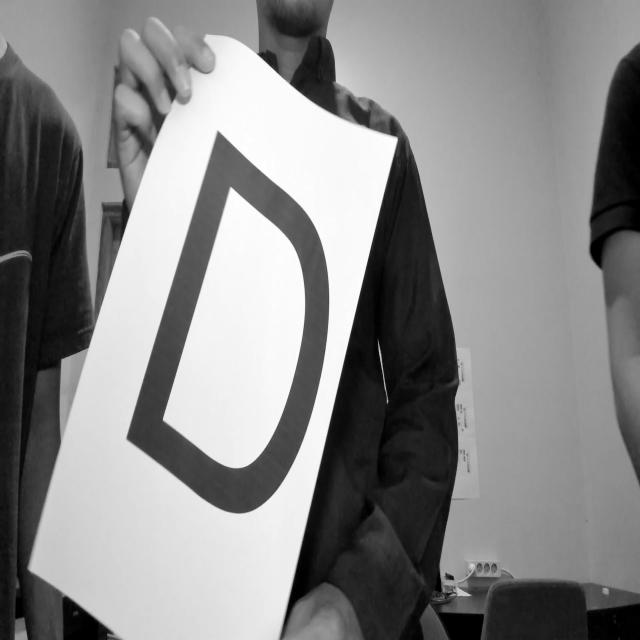d: (120, 114, 350, 532)
